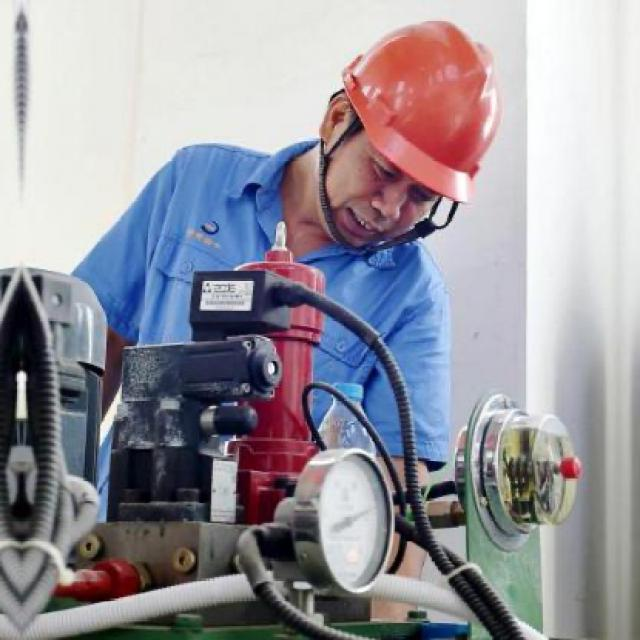helmet: (292, 15, 518, 257)
